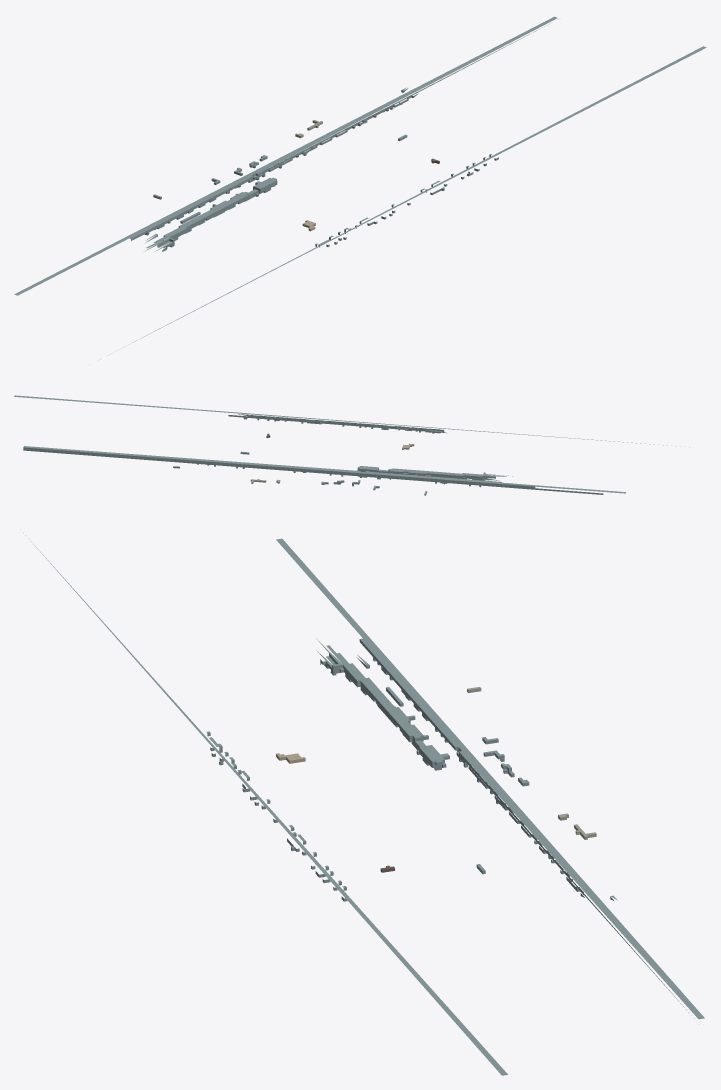
3 views of the same model, one above another, from view 1: azimuth 30°, elevation 25°; view 2: azimuth 150°, elevation 25°; view 3: azimuth 270°, elevation 25° (orthographic). The views are drawn at different scales.
Parts seen in each view (by area): view 1: measured-industrial; view 2: measured-industrial; view 3: measured-industrial.
Boxes of the visible parts, left/top/right/bottom form: measured-industrial: left=14, top=16, right=706, bottom=360; measured-industrial: left=14, top=395, right=689, bottom=495; measured-industrial: left=20, top=529, right=704, bottom=1075.
Size of the model in its own units: 573 by 8.2 by 300.
